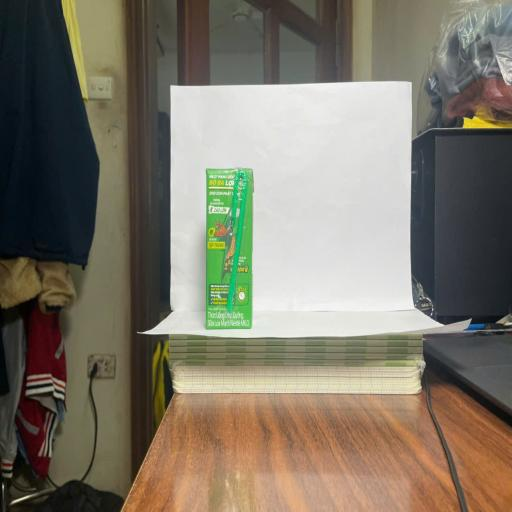milo: (206, 168, 253, 329)
